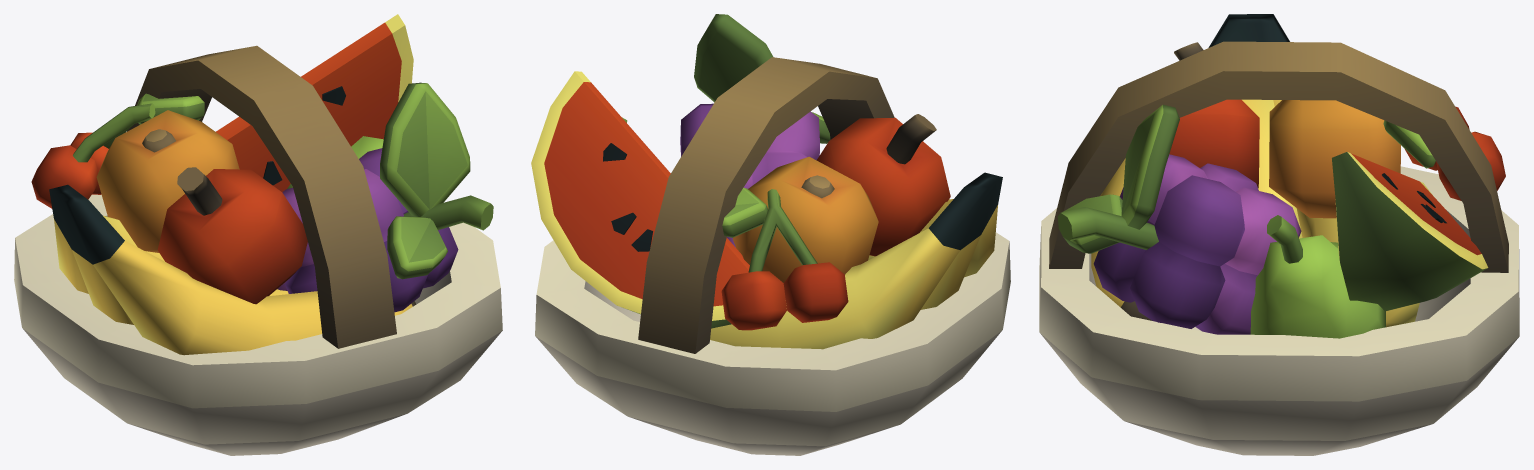
The model's file is basket_fruit.fbx.
The picture shows the model from 3 angles, left to right: view 1: azimuth 30°, elevation 25°; view 2: azimuth 150°, elevation 25°; view 3: azimuth 270°, elevation 25°; orthographic projection. The views are drawn at different scales.
Visible parts, largest first — view 1: basket_fruit; view 2: basket_fruit; view 3: basket_fruit.
Part boxes in pixels (x1,y1,x2,y2): basket_fruit: (14, 14, 502, 455); basket_fruit: (531, 14, 1010, 455); basket_fruit: (1039, 14, 1519, 455).
Bounding box in the file's own units: 65.03 × 51.98 × 62.78.
